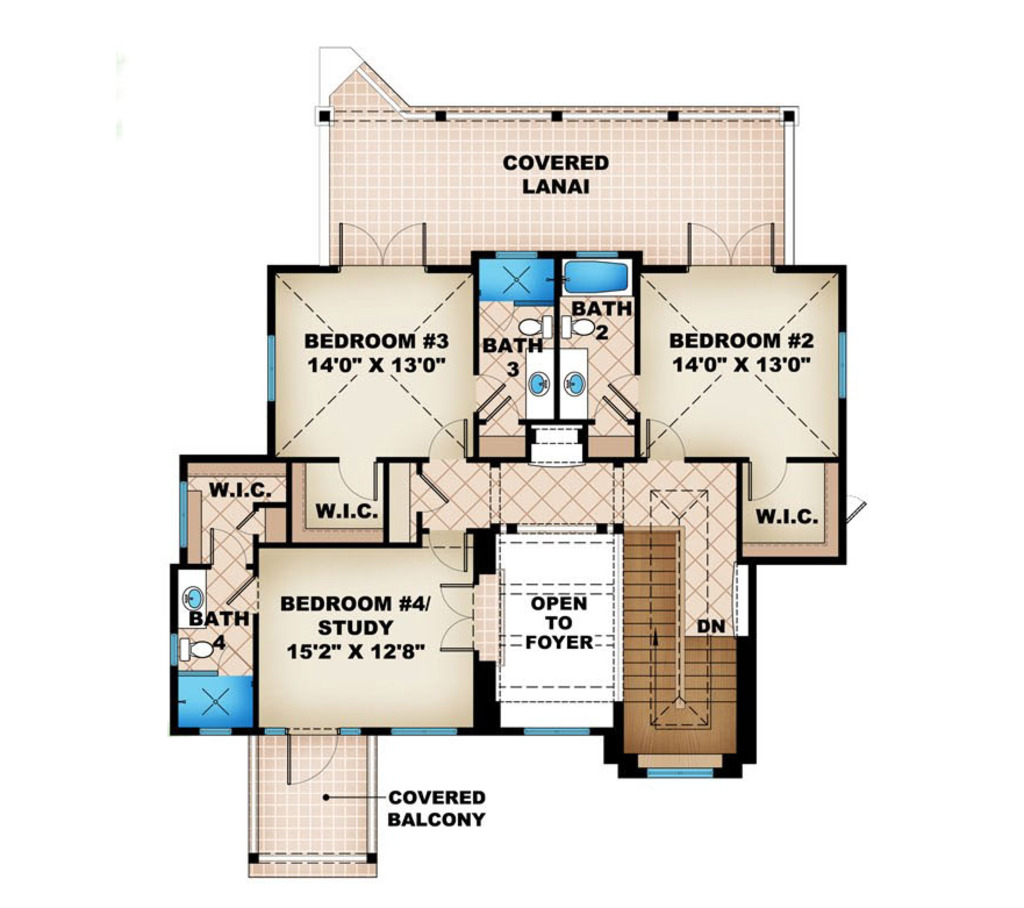door: (336, 222, 427, 273), (687, 221, 781, 268), (284, 727, 338, 784), (436, 581, 472, 655), (743, 453, 791, 503), (204, 522, 249, 569), (424, 417, 471, 461), (643, 411, 685, 460), (336, 456, 380, 501), (425, 530, 469, 571), (592, 396, 629, 428)
large_sink: (175, 630, 217, 668), (512, 311, 552, 345), (558, 314, 596, 347)
small_sink: (556, 349, 589, 419), (525, 347, 552, 421)
stairs: (620, 528, 739, 757)
tub: (562, 260, 630, 298)
windows: (383, 722, 462, 742), (511, 723, 594, 740), (835, 330, 851, 404), (264, 332, 278, 407)
